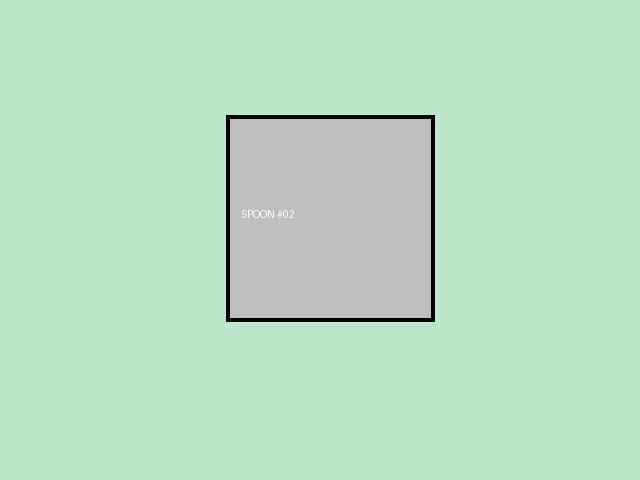spoon: (226, 115, 434, 321)
